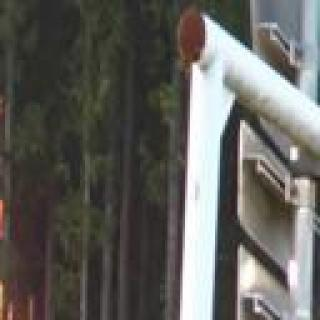fire: (0, 182, 22, 320)
